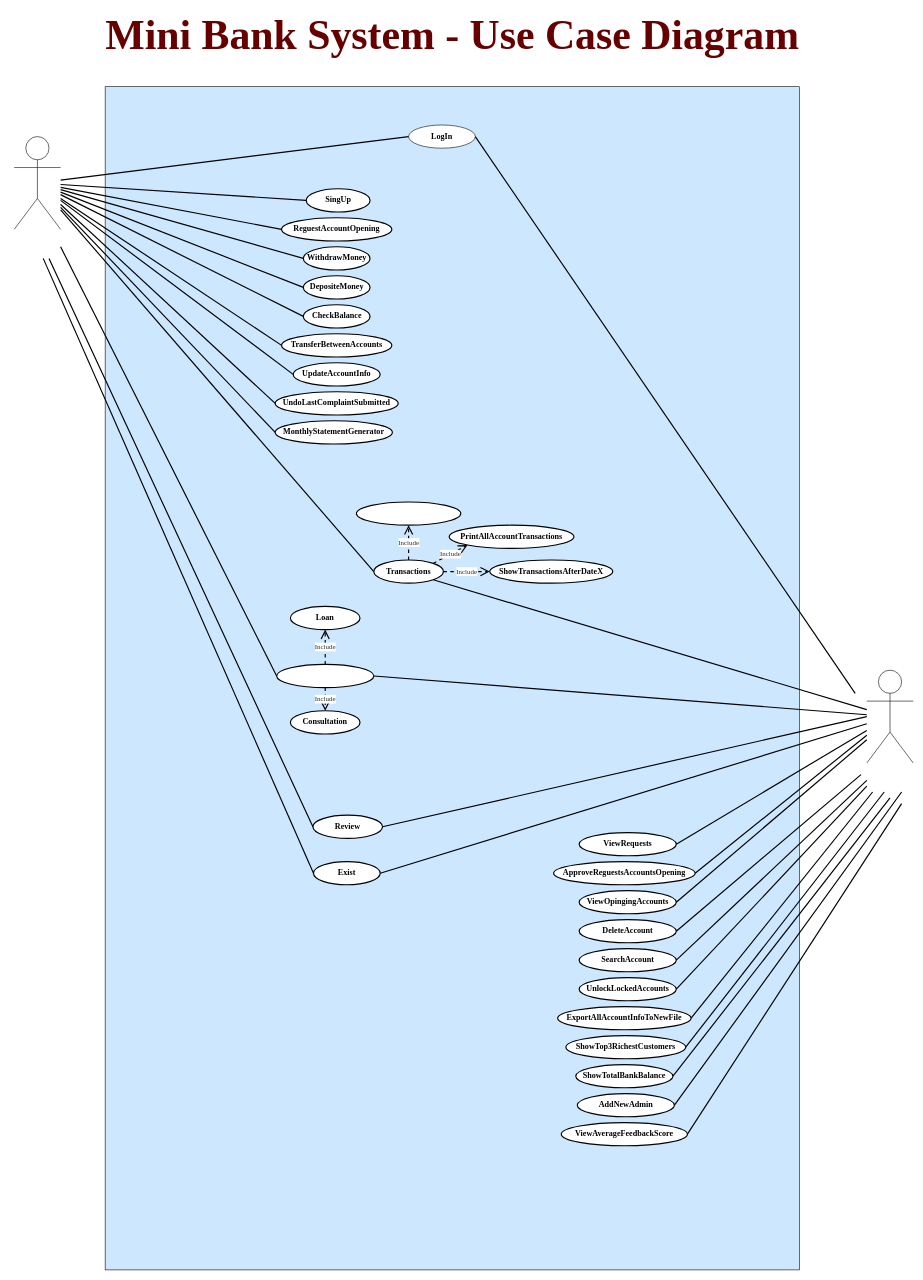
Image size: 923x1280. Some labels were removed from this diagram. The centre of each missing label's shape, as x and y in pixels:
Admin: (889,716)
BookingBankServices: (325,676)
EndUser: (37,182)
ShowLastNTransactions: (408,513)
